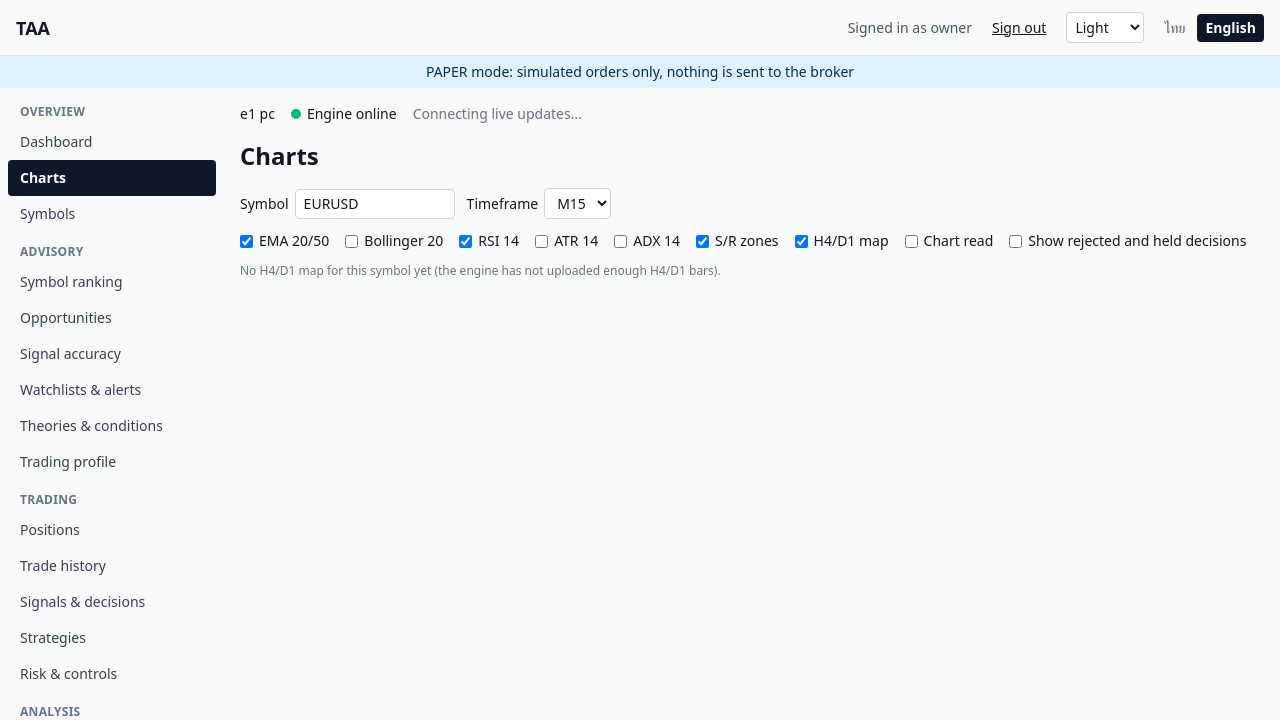
Test: charts page: the H4/D1 market map (TAA-L809) › turns the map off and says when there is none
Check: the text "No H4/D1 map for this symbol yet" is shown, box [240,262,721,279]
Click the checkbox labelled "H4/D1 map" at (801, 241), box [794,234,808,248]
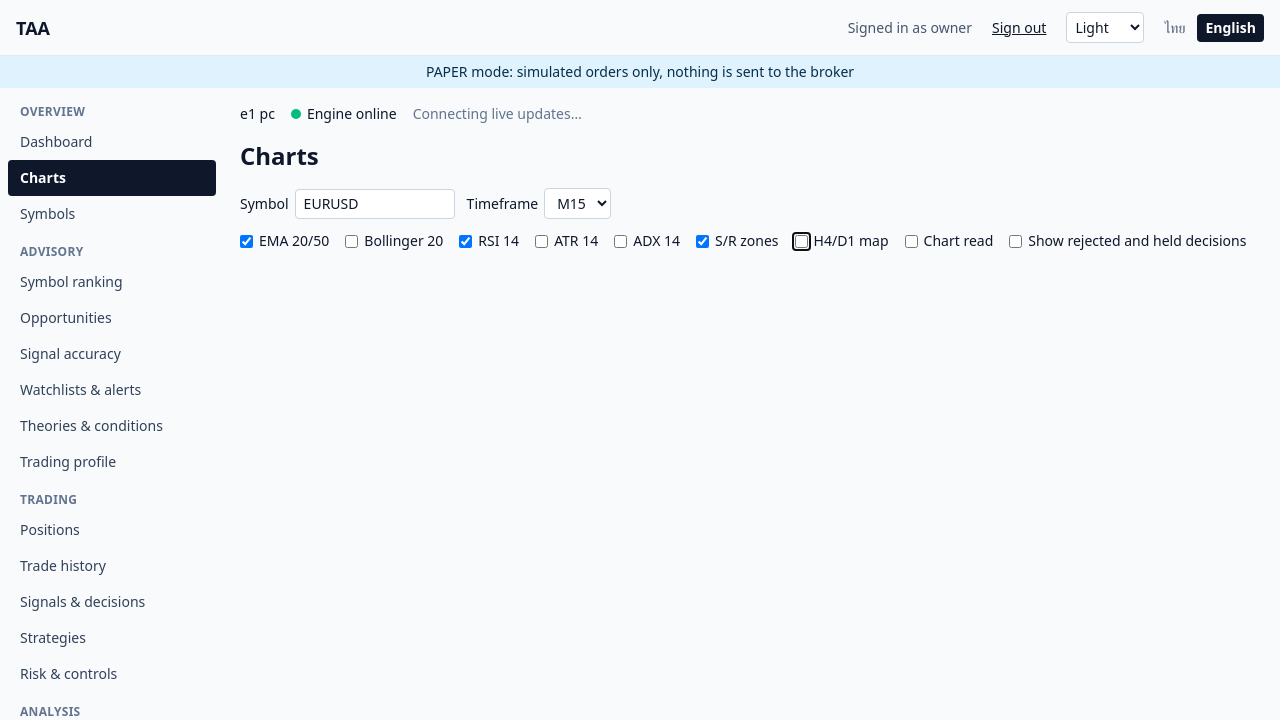
Check: the text "No H4/D1 map for this symbol yet" is gone
